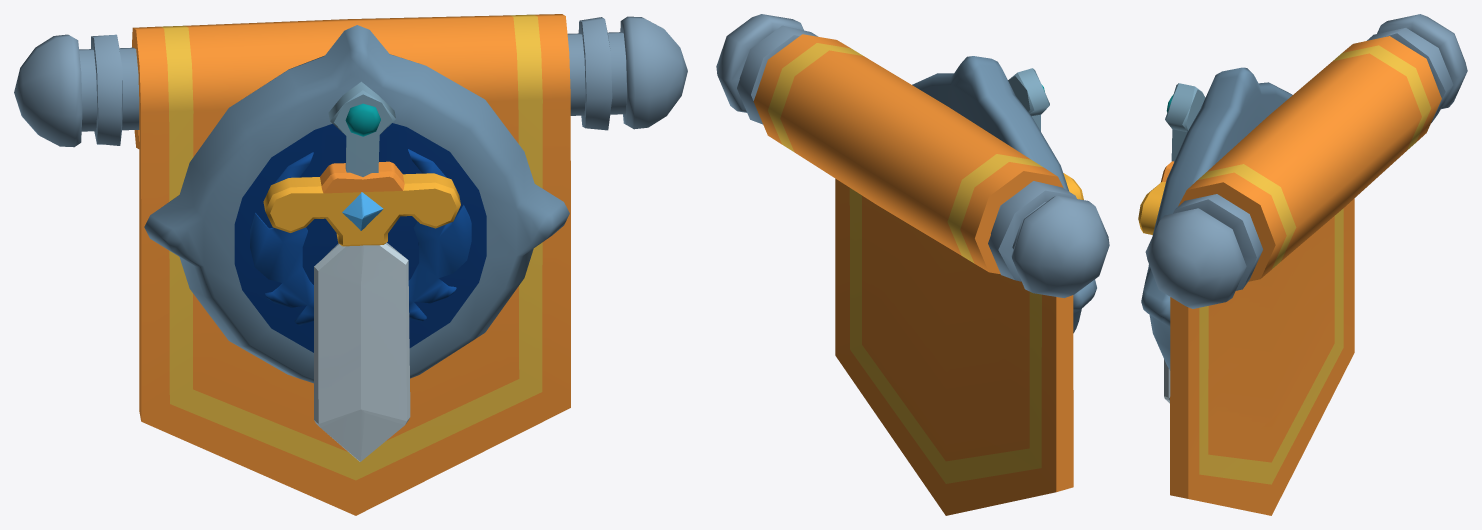
The picture shows the model from 3 angles, left to right: view 1: azimuth 30°, elevation 25°; view 2: azimuth 150°, elevation 25°; view 3: azimuth 270°, elevation 25°; orthographic projection. The views are drawn at different scales.
Visible parts, largest first — view 1: model_1.043; view 2: model_1.043; view 3: model_1.043.
Part boxes in pixels (bbox=[...]): model_1.043: bbox=[14, 14, 687, 515]; model_1.043: bbox=[716, 14, 1109, 515]; model_1.043: bbox=[1138, 14, 1467, 515].
Size of the model in its own units: 4.91 by 4.35 by 2.94.
